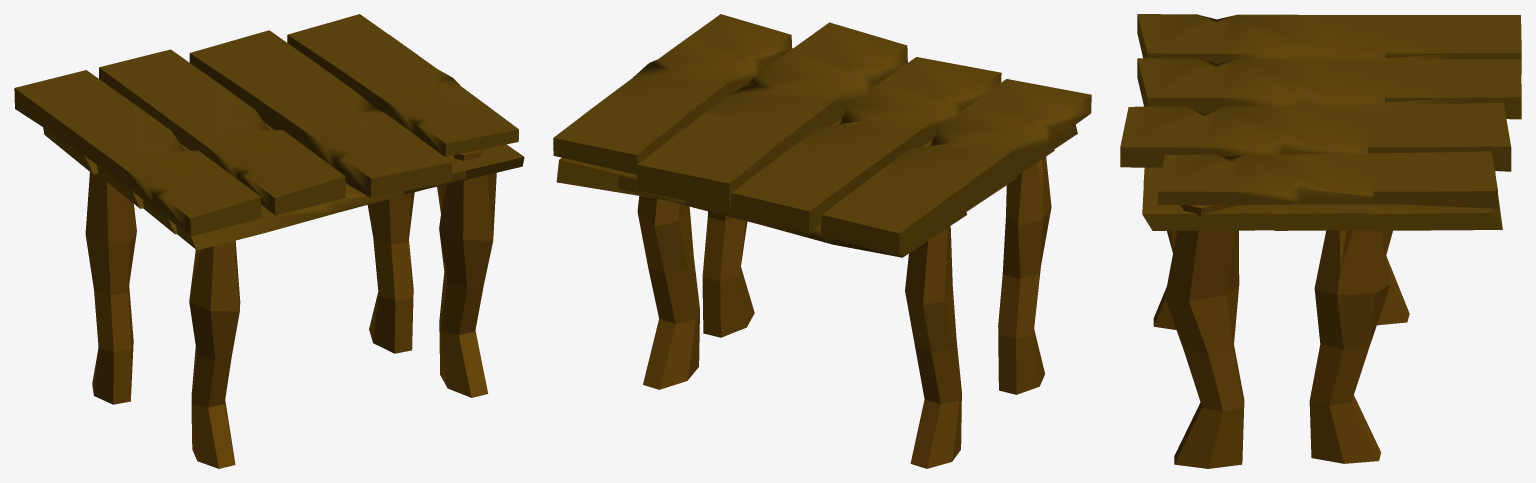
The model's file is Table3.fbx.
3 renders of one model, left to right at view 1: azimuth 30°, elevation 25°; view 2: azimuth 150°, elevation 25°; view 3: azimuth 270°, elevation 25°, orthographic. The views are drawn at different scales.
Visible parts, largest first — view 1: pCube35; view 2: pCube35; view 3: pCube35.
Boxes of the visible parts, x1,y1,x2,y2 form: pCube35: (14,14,524,468); pCube35: (553,14,1091,468); pCube35: (1120,14,1521,468).
Size of the model in its own units: 1363 by 1027 by 1298.
